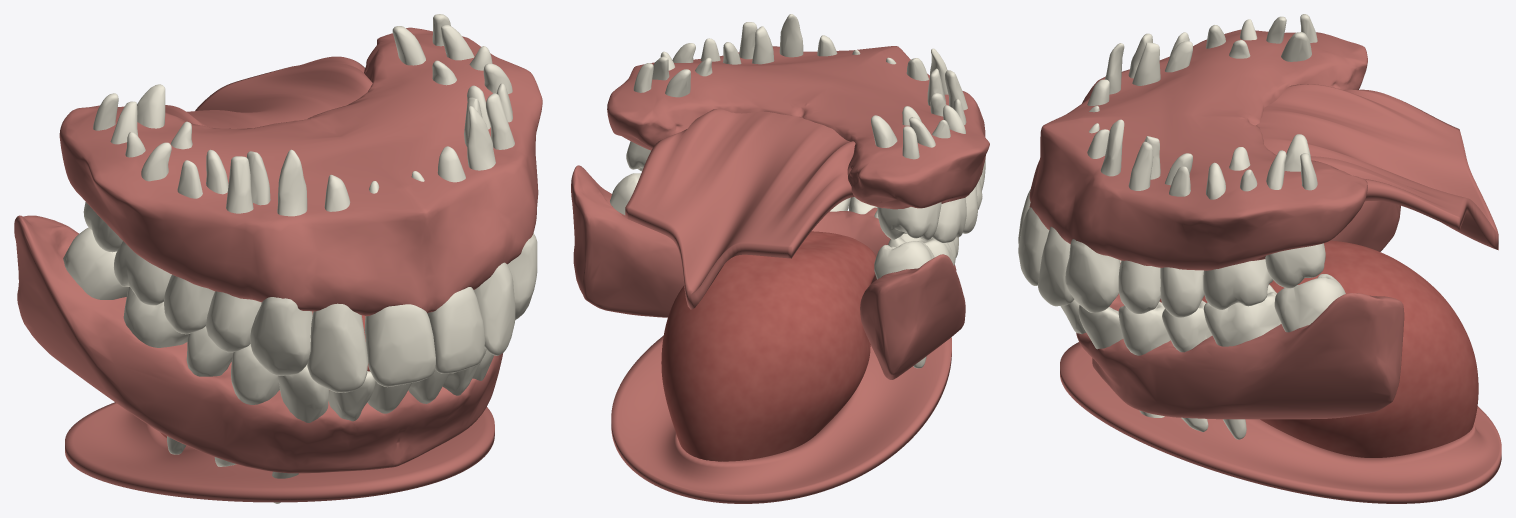
File: oral-study.glb
3 views of the same model, side by side, from view 1: azimuth 30°, elevation 25°; view 2: azimuth 150°, elevation 25°; view 3: azimuth 270°, elevation 25° (orthographic). The views are drawn at different scales.
Parts seen in each view (by area): view 1: UPPER_GINGIVA, UPPER_DENTITION, LOWER_GINGIVA, ORAL_FLOOR, LOWER_DENTITION, PALATE; view 2: TONGUE, UPPER_GINGIVA, PALATE, ORAL_FLOOR, LOWER_GINGIVA, UPPER_DENTITION, LOWER_DENTITION; view 3: UPPER_GINGIVA, LOWER_GINGIVA, UPPER_DENTITION, ORAL_FLOOR, TONGUE, PALATE, LOWER_DENTITION.
Part boxes in pixels (<box>): UPPER_GINGIVA: <box>59,27,542,316</box>; UPPER_DENTITION: <box>83,14,537,392</box>; LOWER_GINGIVA: <box>14,215,502,473</box>; ORAL_FLOOR: <box>65,402,494,502</box>; LOWER_DENTITION: <box>63,227,493,503</box>; PALATE: <box>165,56,372,128</box>; TONGUE: <box>661,231,875,461</box>; UPPER_GINGIVA: <box>607,46,989,209</box>; PALATE: <box>625,108,855,309</box>; ORAL_FLOOR: <box>611,335,951,503</box>; LOWER_GINGIVA: <box>571,165,965,379</box>; UPPER_DENTITION: <box>626,14,985,242</box>; LOWER_DENTITION: <box>610,173,958,368</box>; UPPER_GINGIVA: <box>1029,29,1367,270</box>; LOWER_GINGIVA: <box>1076,201,1404,419</box>; UPPER_DENTITION: <box>1018,14,1325,317</box>; ORAL_FLOOR: <box>1060,342,1501,503</box>; TONGUE: <box>1159,240,1478,457</box>; PALATE: <box>1256,84,1498,250</box>; LOWER_DENTITION: <box>1060,260,1345,439</box>.
Bounding box in the file's own units: 0.0725 × 0.068 × 0.0744.
3 materials, 1 textured.
